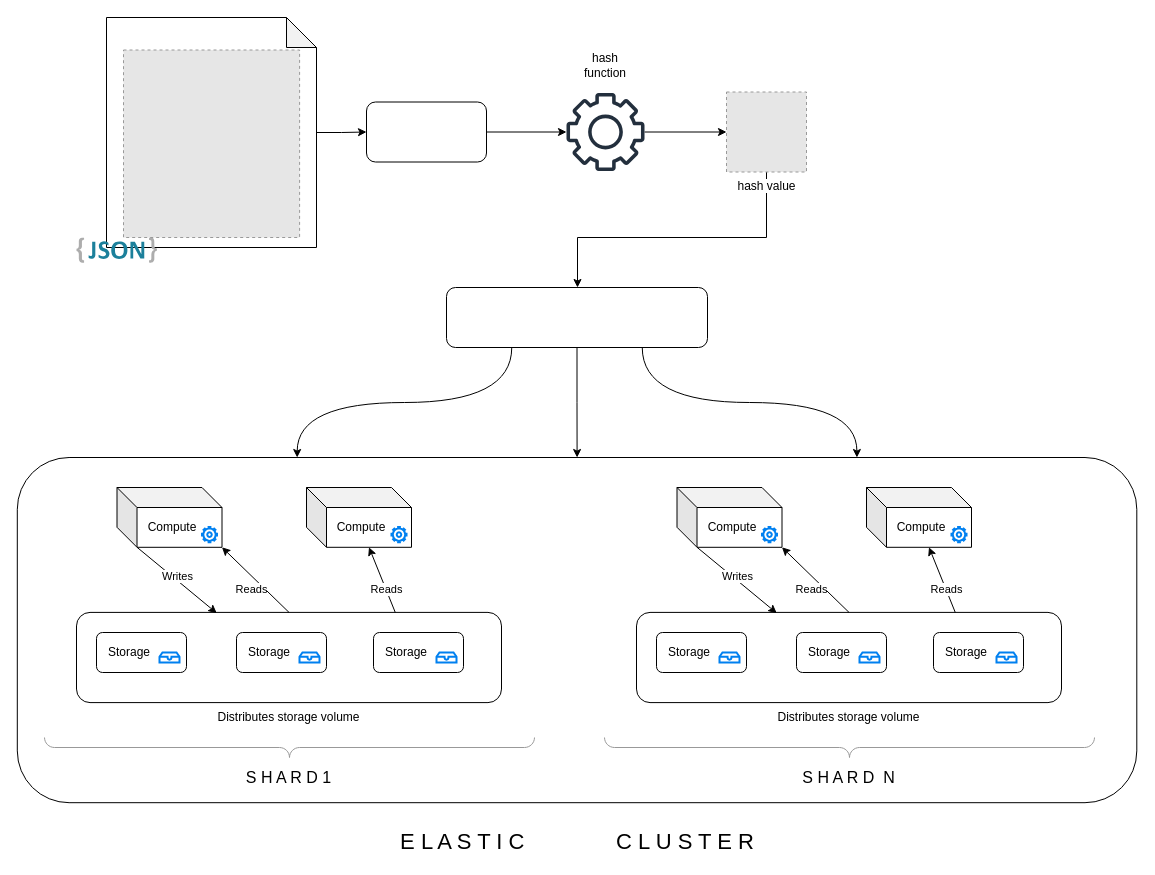
This 1155x875 diagram has some shape labels left out. Grey dashed boxes stand in for pictures. The shapes that lost their labels are listed below. From the top down, each one's box as (x1, y1, x2, y2) in pixels, then its label:
(366, 101, 486, 162): shard_key = id
(446, 286, 708, 348): REQUEST ROUTER
